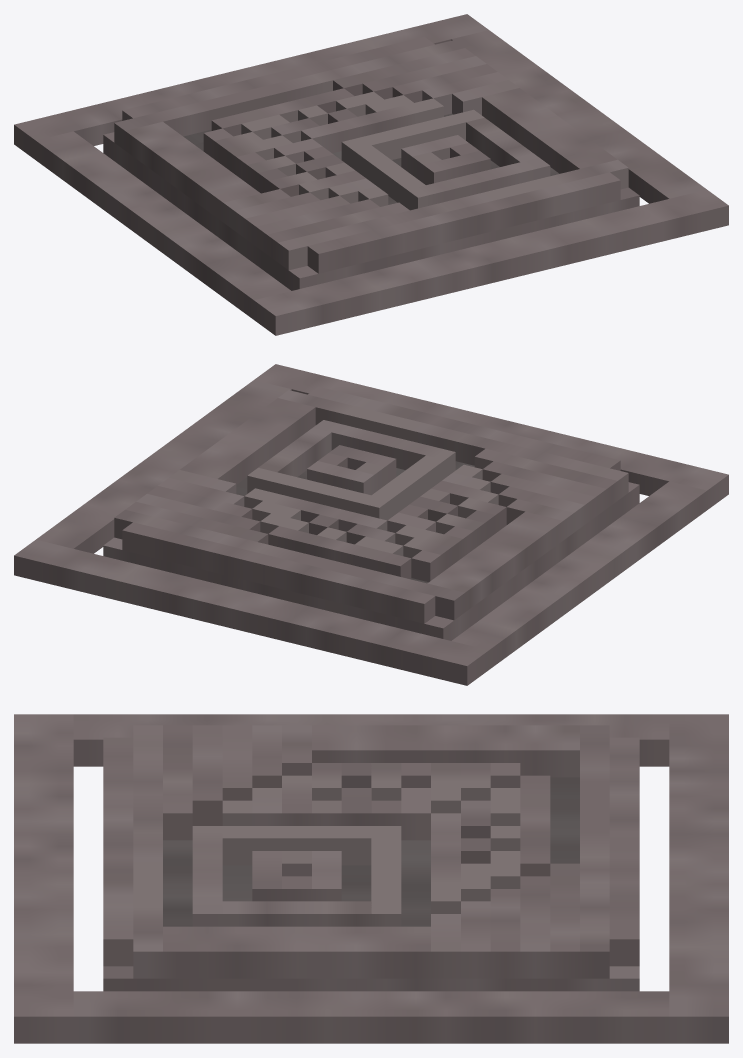
The model's file is Pressure_Plate_block.fbx.
3 views of the same model, one above another, from view 1: azimuth 30°, elevation 25°; view 2: azimuth 150°, elevation 25°; view 3: azimuth 270°, elevation 25° (orthographic). The views are drawn at different scales.
Visible parts, largest first — view 1: Pressure_Plate_block; view 2: Pressure_Plate_block; view 3: Pressure_Plate_block.
Part boxes in pixels (bbox=[...]): Pressure_Plate_block: bbox=[14, 14, 728, 335]; Pressure_Plate_block: bbox=[14, 364, 728, 685]; Pressure_Plate_block: bbox=[14, 714, 728, 1043].
Size of the model in its own units: 24 by 2 by 24.
Materials: 1 (1 with a texture image).
